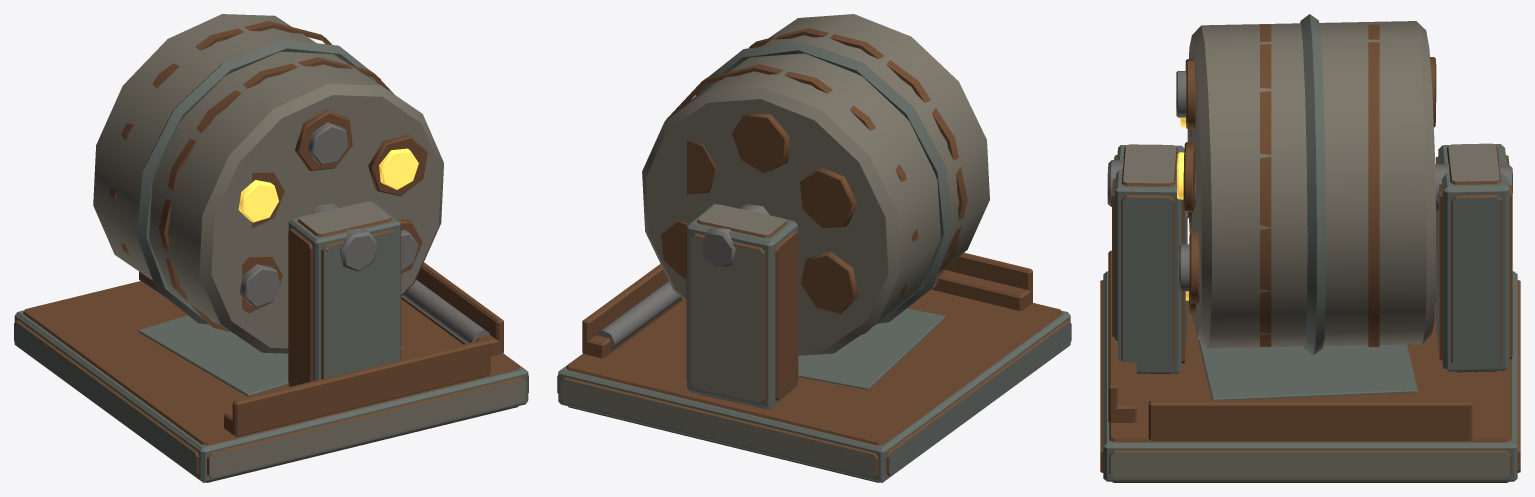
File: R4X_ReloadBooster.fbx
3 views of the same model, side by side, from view 1: azimuth 30°, elevation 25°; view 2: azimuth 150°, elevation 25°; view 3: azimuth 270°, elevation 25° (orthographic). The views are drawn at different scales.
Parts seen in each view (by area): view 1: R4X_ReloadBooster_Body, R4X_ReloadBooster_Drum; view 2: R4X_ReloadBooster_Body, R4X_ReloadBooster_Drum; view 3: R4X_ReloadBooster_Body, R4X_ReloadBooster_Drum.
Part boxes in pixels (x1,y1,x2,y2): R4X_ReloadBooster_Body: [14, 201, 528, 482]; R4X_ReloadBooster_Drum: [93, 14, 443, 353]; R4X_ReloadBooster_Body: [557, 204, 1071, 482]; R4X_ReloadBooster_Drum: [642, 14, 989, 355]; R4X_ReloadBooster_Body: [1100, 143, 1520, 482]; R4X_ReloadBooster_Drum: [1176, 14, 1436, 354].
Bounding box in the file's own units: 0.52 × 0.5007 × 0.52.
